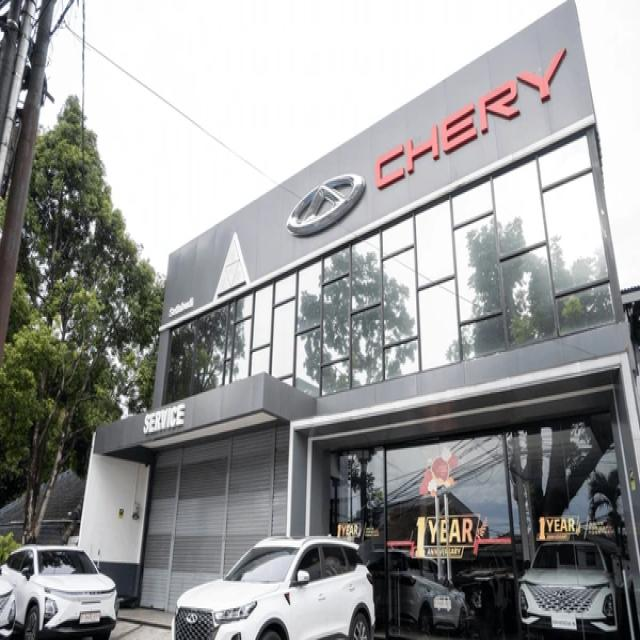cherry: (280, 174, 373, 234)
